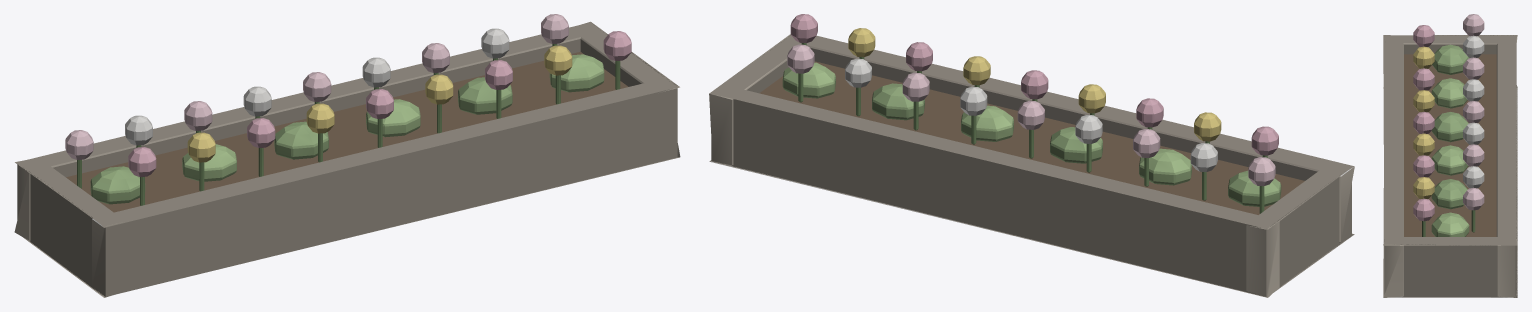
The model's file is flower_planter.glb.
The picture shows the model from 3 angles, left to right: view 1: azimuth 30°, elevation 25°; view 2: azimuth 150°, elevation 25°; view 3: azimuth 270°, elevation 25°; orthographic projection. The views are drawn at different scales.
Bounding box in the file's own units: 3.01 × 0.57 × 0.812.
